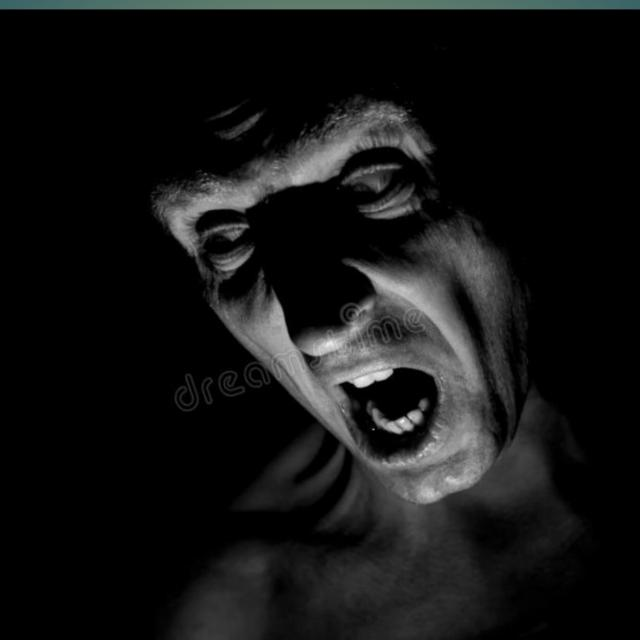Angry: (66, 61, 585, 581)
